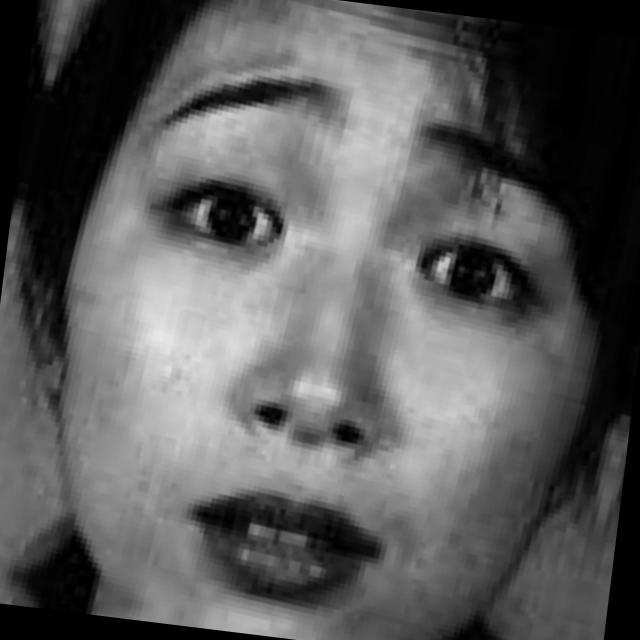fear: (39, 23, 609, 640)
